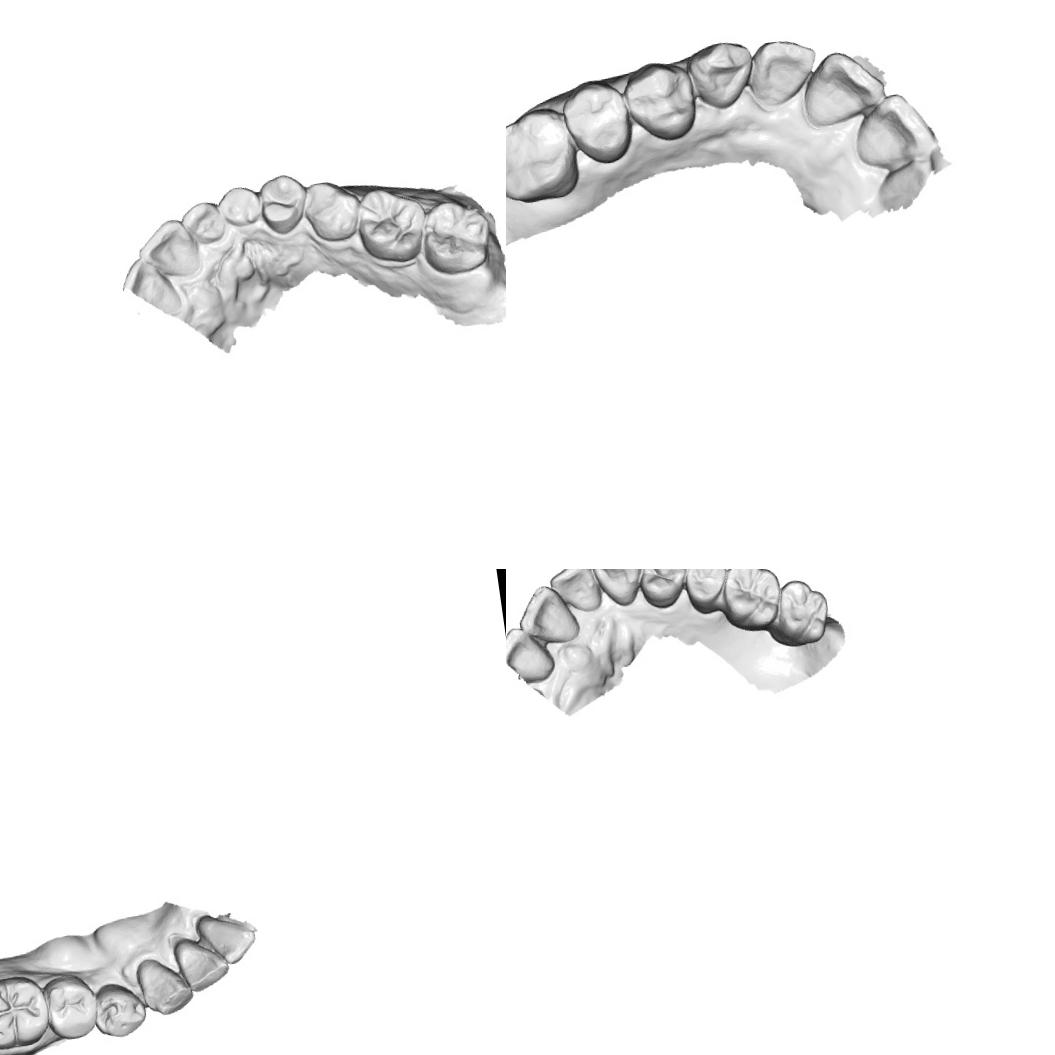canine: (682, 34, 759, 112), (134, 951, 196, 1019), (213, 182, 263, 232), (589, 569, 648, 611)
incisor: (796, 46, 892, 130), (845, 88, 937, 174), (742, 31, 823, 112), (133, 214, 204, 286), (511, 580, 584, 650), (116, 252, 184, 321), (193, 906, 261, 970), (171, 930, 233, 996), (506, 622, 559, 687), (546, 569, 604, 616), (177, 197, 228, 247)
molar: (506, 102, 585, 210), (352, 181, 432, 269), (417, 195, 497, 278), (760, 574, 834, 652), (0, 968, 54, 1055), (716, 569, 786, 636)
premolar: (558, 72, 638, 170), (620, 56, 703, 146), (39, 970, 104, 1044), (300, 176, 362, 247), (90, 976, 151, 1042), (255, 170, 313, 238), (634, 569, 691, 613), (680, 569, 731, 618)
